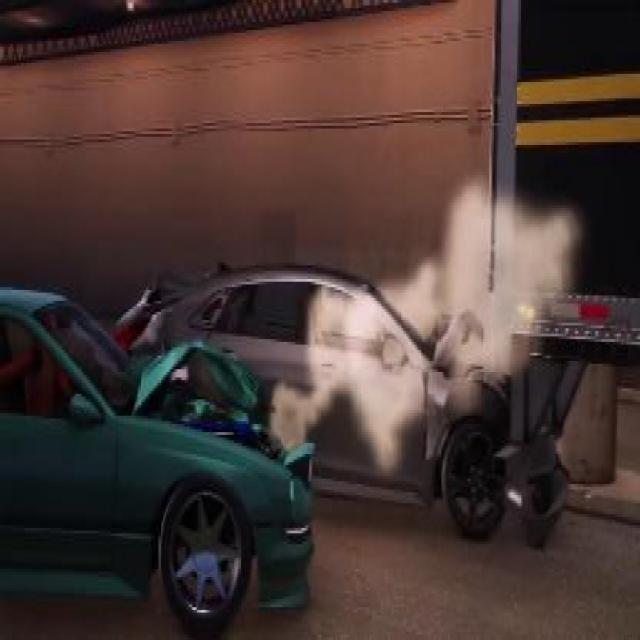accident: (0, 175, 638, 634)
